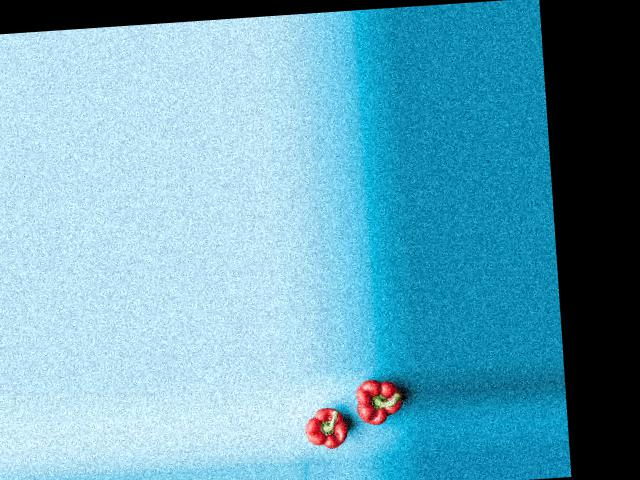bell_pepper: (345, 378, 409, 431)
